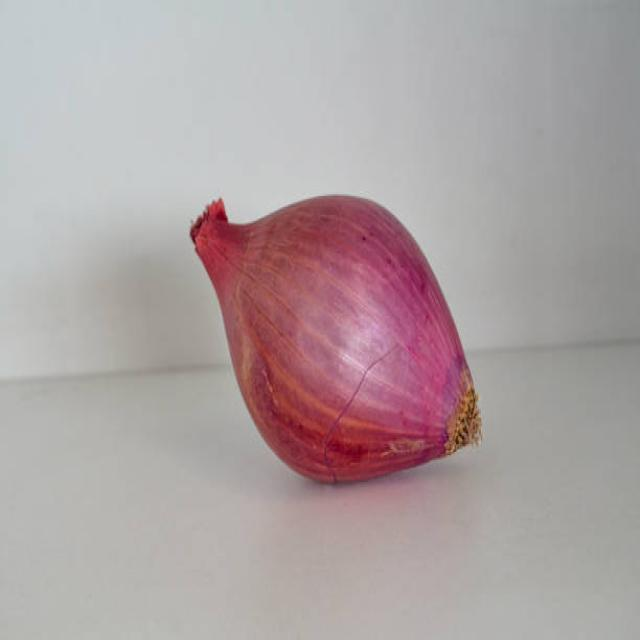onion: (228, 172, 486, 490)
